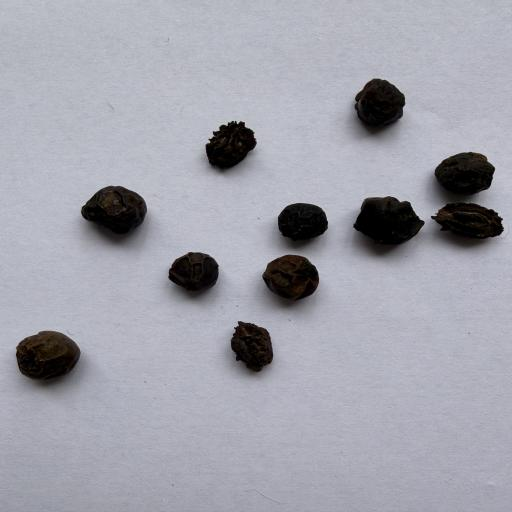Black_pepper: (13, 326, 105, 398), (72, 176, 156, 236), (427, 135, 503, 197), (345, 69, 416, 129), (266, 191, 346, 244), (163, 239, 241, 293), (255, 248, 323, 305), (355, 194, 425, 248)
papaya_seed: (195, 114, 265, 173), (431, 199, 505, 248), (231, 320, 283, 376)
